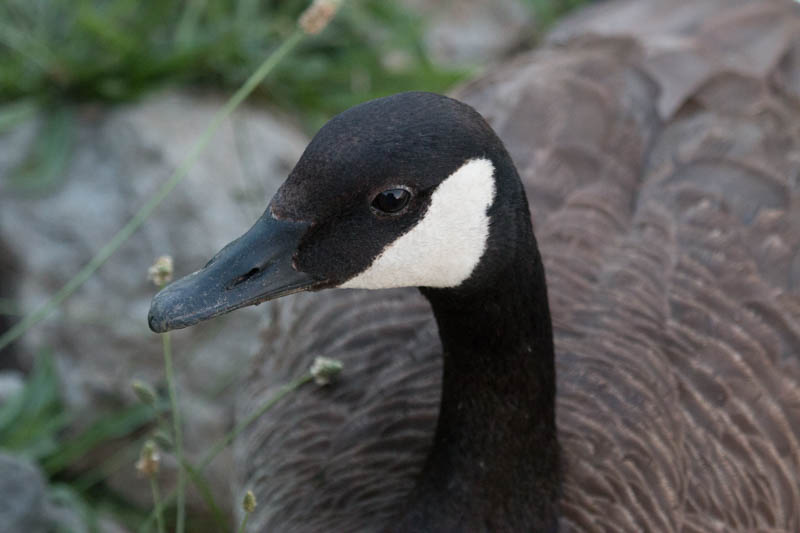goose-head: (147, 90, 535, 334)
